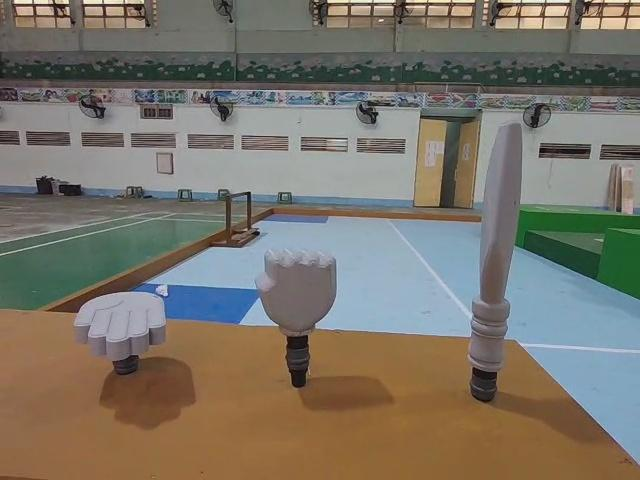Fist: (252, 247, 340, 389)
Hand: (76, 286, 169, 377)
Sph: (461, 117, 521, 413)
